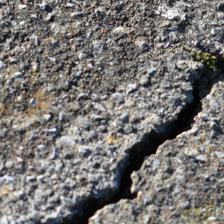Crack: (29, 34, 186, 186)
